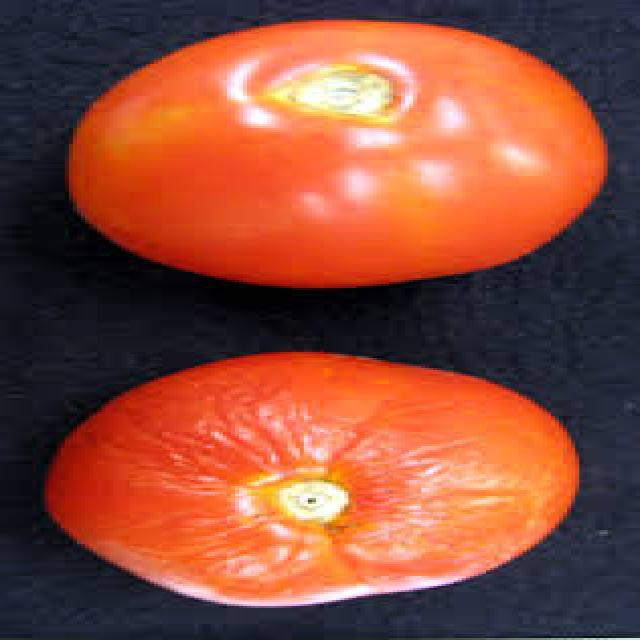Fresh_tomato: (68, 23, 587, 267), (28, 353, 545, 597)
